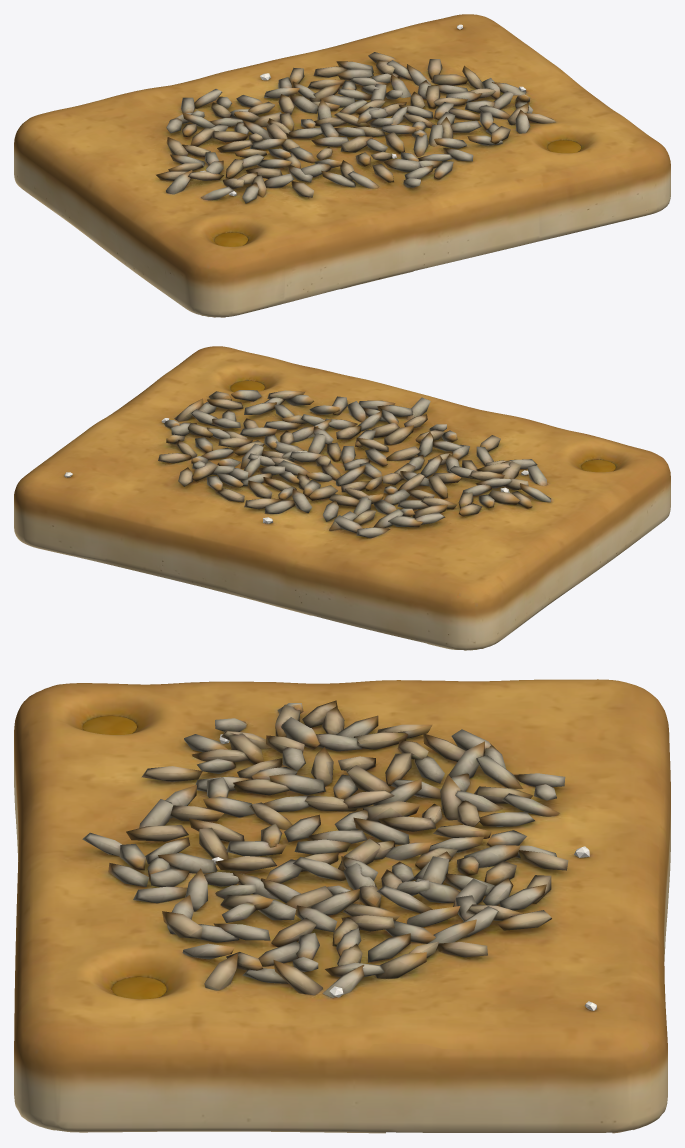
The model's file is focaccia--sunflowerseed-seed.glb.
3 views of the same model, one above another, from view 1: azimuth 30°, elevation 25°; view 2: azimuth 150°, elevation 25°; view 3: azimuth 270°, elevation 25° (orthographic). The views are drawn at different scales.
Visible parts, largest first — view 1: focaccia_sunflowerseed-seed; view 2: focaccia_sunflowerseed-seed; view 3: focaccia_sunflowerseed-seed.
Part boxes in pixels (bbox=[...]): focaccia_sunflowerseed-seed: bbox=[14, 14, 670, 317]; focaccia_sunflowerseed-seed: bbox=[14, 346, 670, 650]; focaccia_sunflowerseed-seed: bbox=[14, 679, 670, 1133].
Size of the model in its own units: 1.01 by 0.1497 by 0.7441.
1 material, 1 textured.
